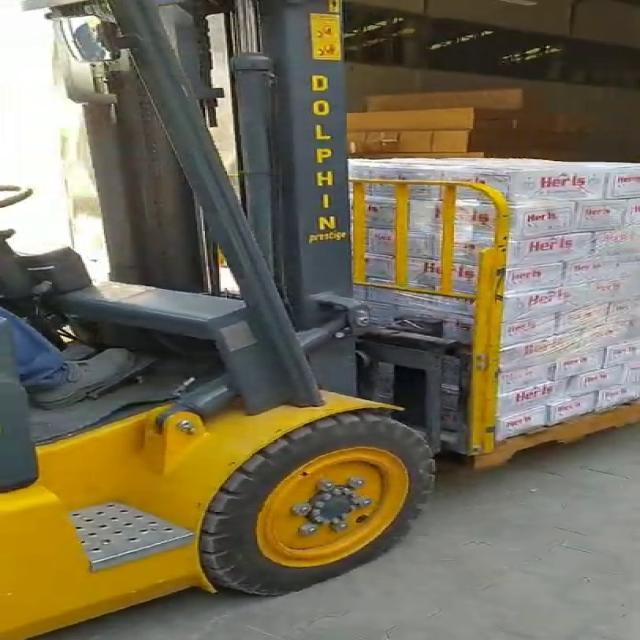box: (327, 144, 640, 454)
forklift: (0, 2, 481, 639)
